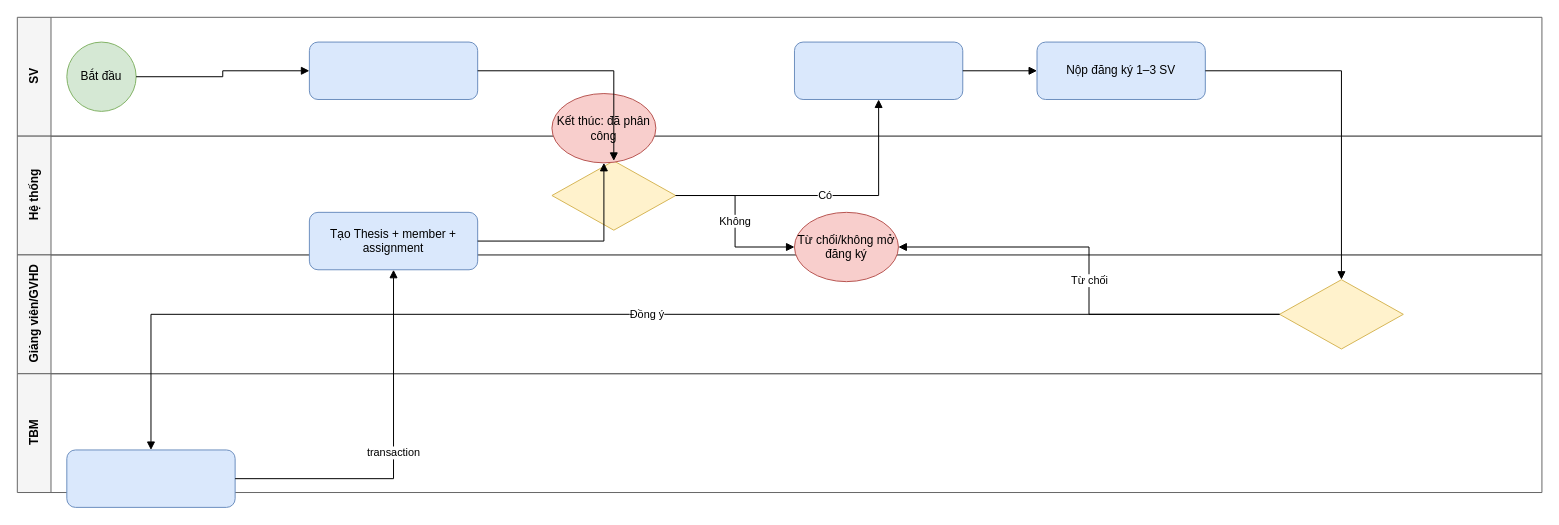
Image size: 1559x525. Some labels were removed from this diagram. Each missing label, with the centre of its shape:
"Chọn/đề xuất 1 đề tài" goes at point (878, 70).
"GVHD đồng ý?" goes at point (1341, 314).
"Khai/import snapshot điều kiện" goes at point (393, 70).
"TBM chốt và phân công" goes at point (150, 478).
"Đủ điều kiện?" goes at point (613, 195).
